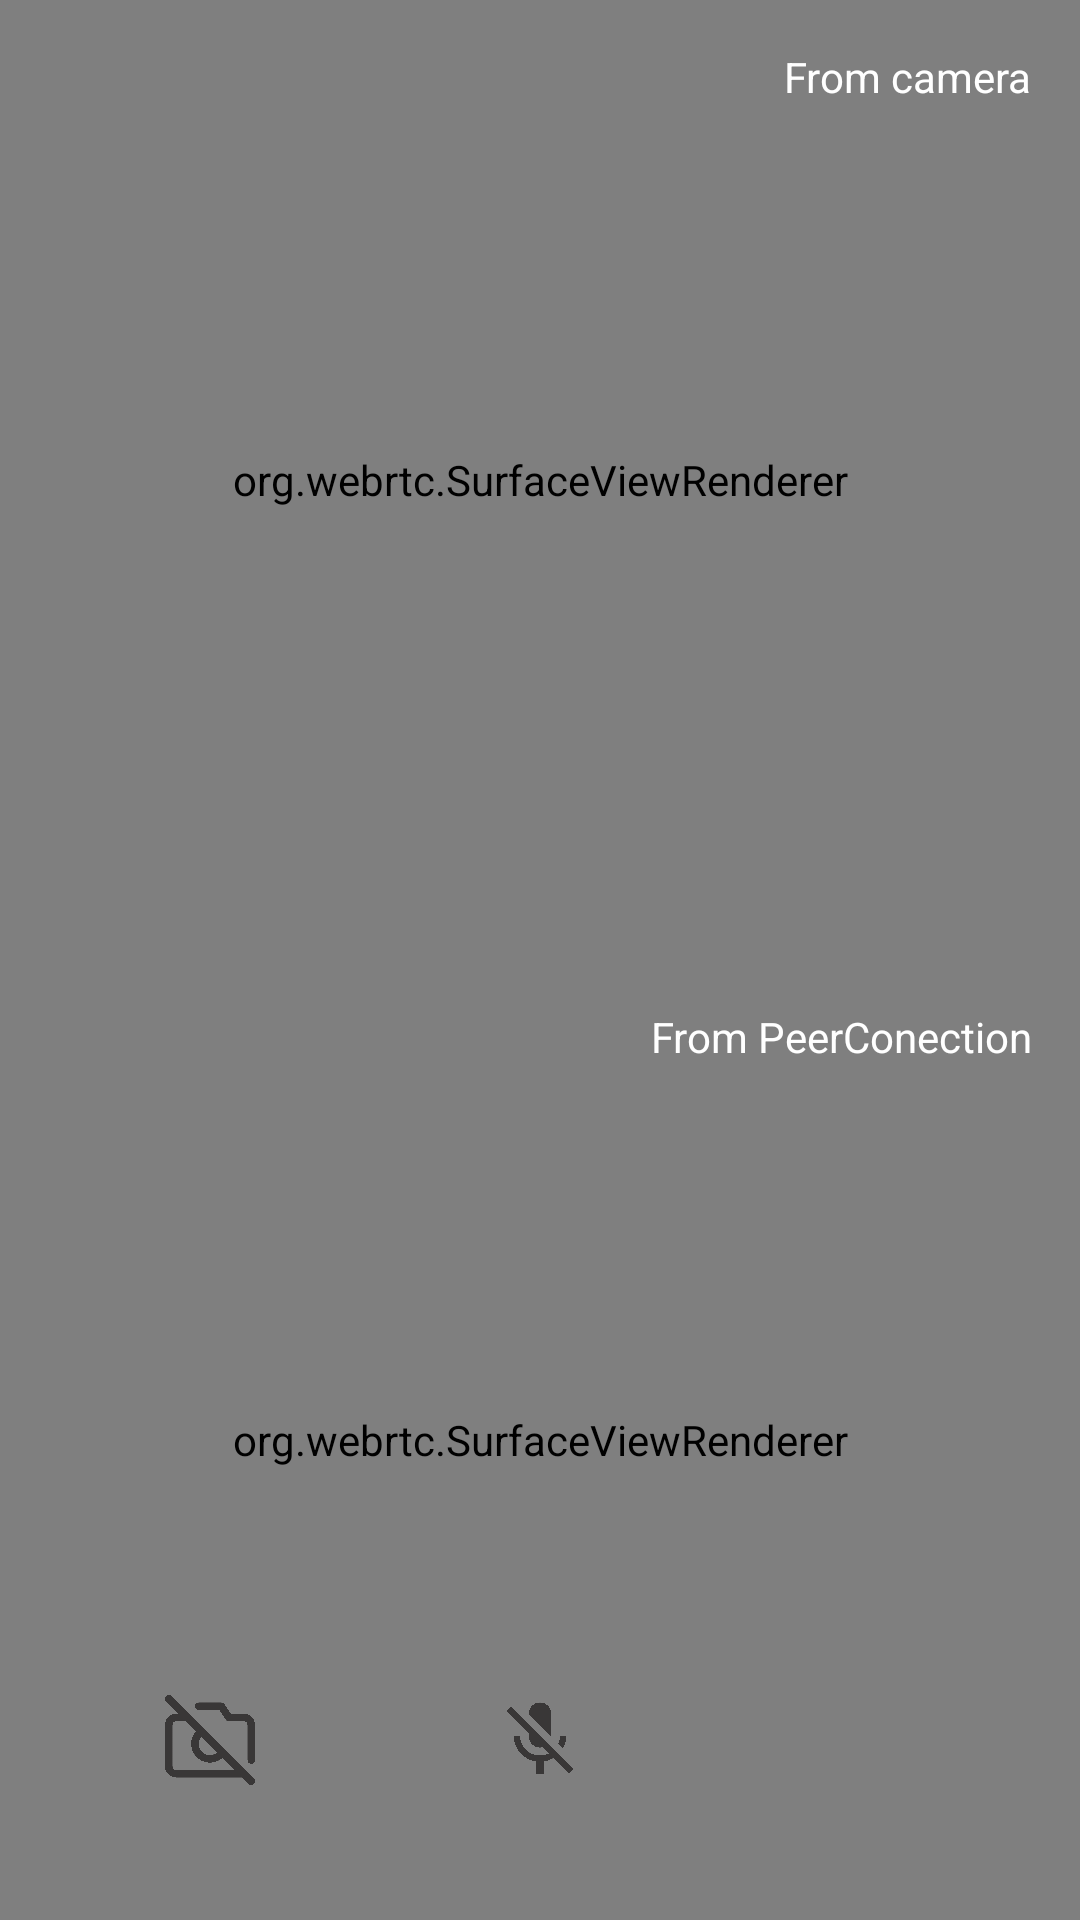

Icon click points for this 1080 × 1920 phone screenshot, format [x,y]:
camera off: [210,1740]
mic off: [540,1738]
